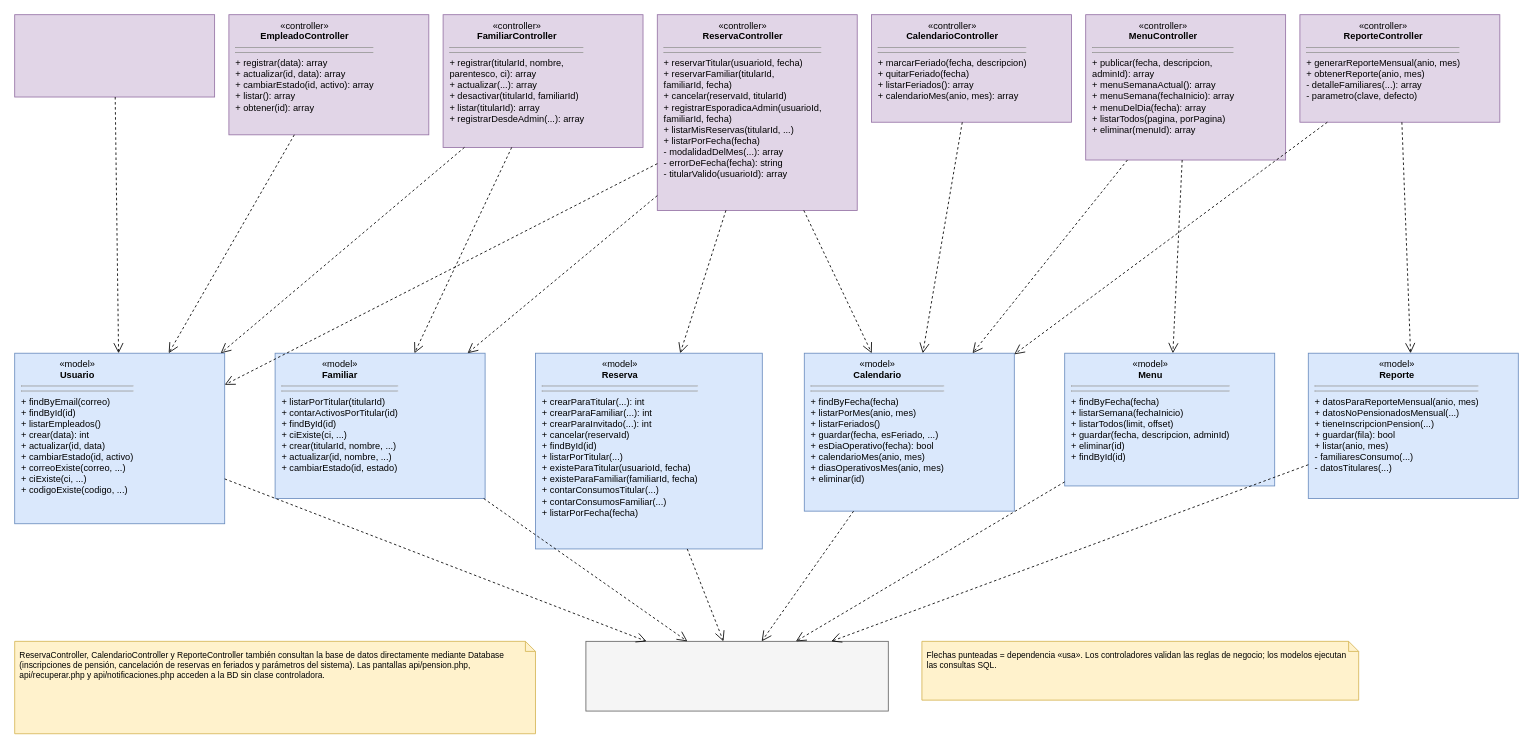
The diagram is 1533 pixels wide and 748 high, and some of its shapes have lost their labels. Each missing label, with the box of its shape:
«config» Database + getConnection(): PDO {static}: (585, 640, 888, 711)
«controller» AuthController + login(correo, contrasena): array + logout(): void: (14, 14, 215, 97)
